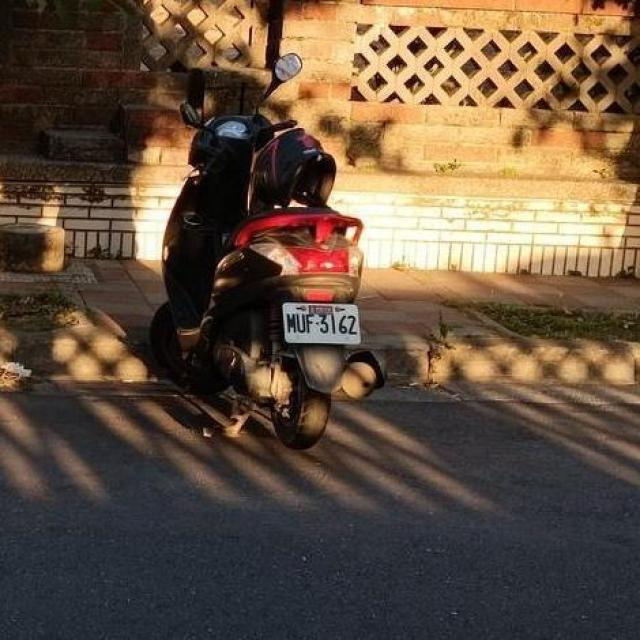W: (275, 294, 364, 347)
